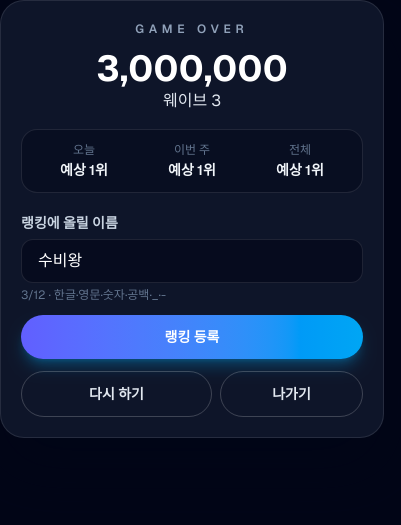
Test: ScoreSubmitPanel — 게임 사양·보드를 따른다 › 일시 실패를 보관하지 못하면(저장소 차단·용량) 떠나면 사라진다고 알린다 (FE-46)
Click the button "랭킹 등록". click: (192, 337)
box: [21,315,363,359]
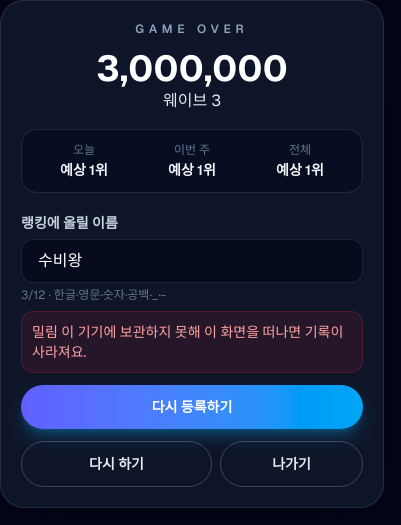
expect the message shows "이 기기에 보관하지 못해": met, box [32,323,343,361]
